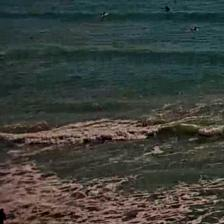surfer: (100, 12, 108, 18), (190, 27, 199, 32), (164, 6, 170, 12), (140, 0, 148, 2)
